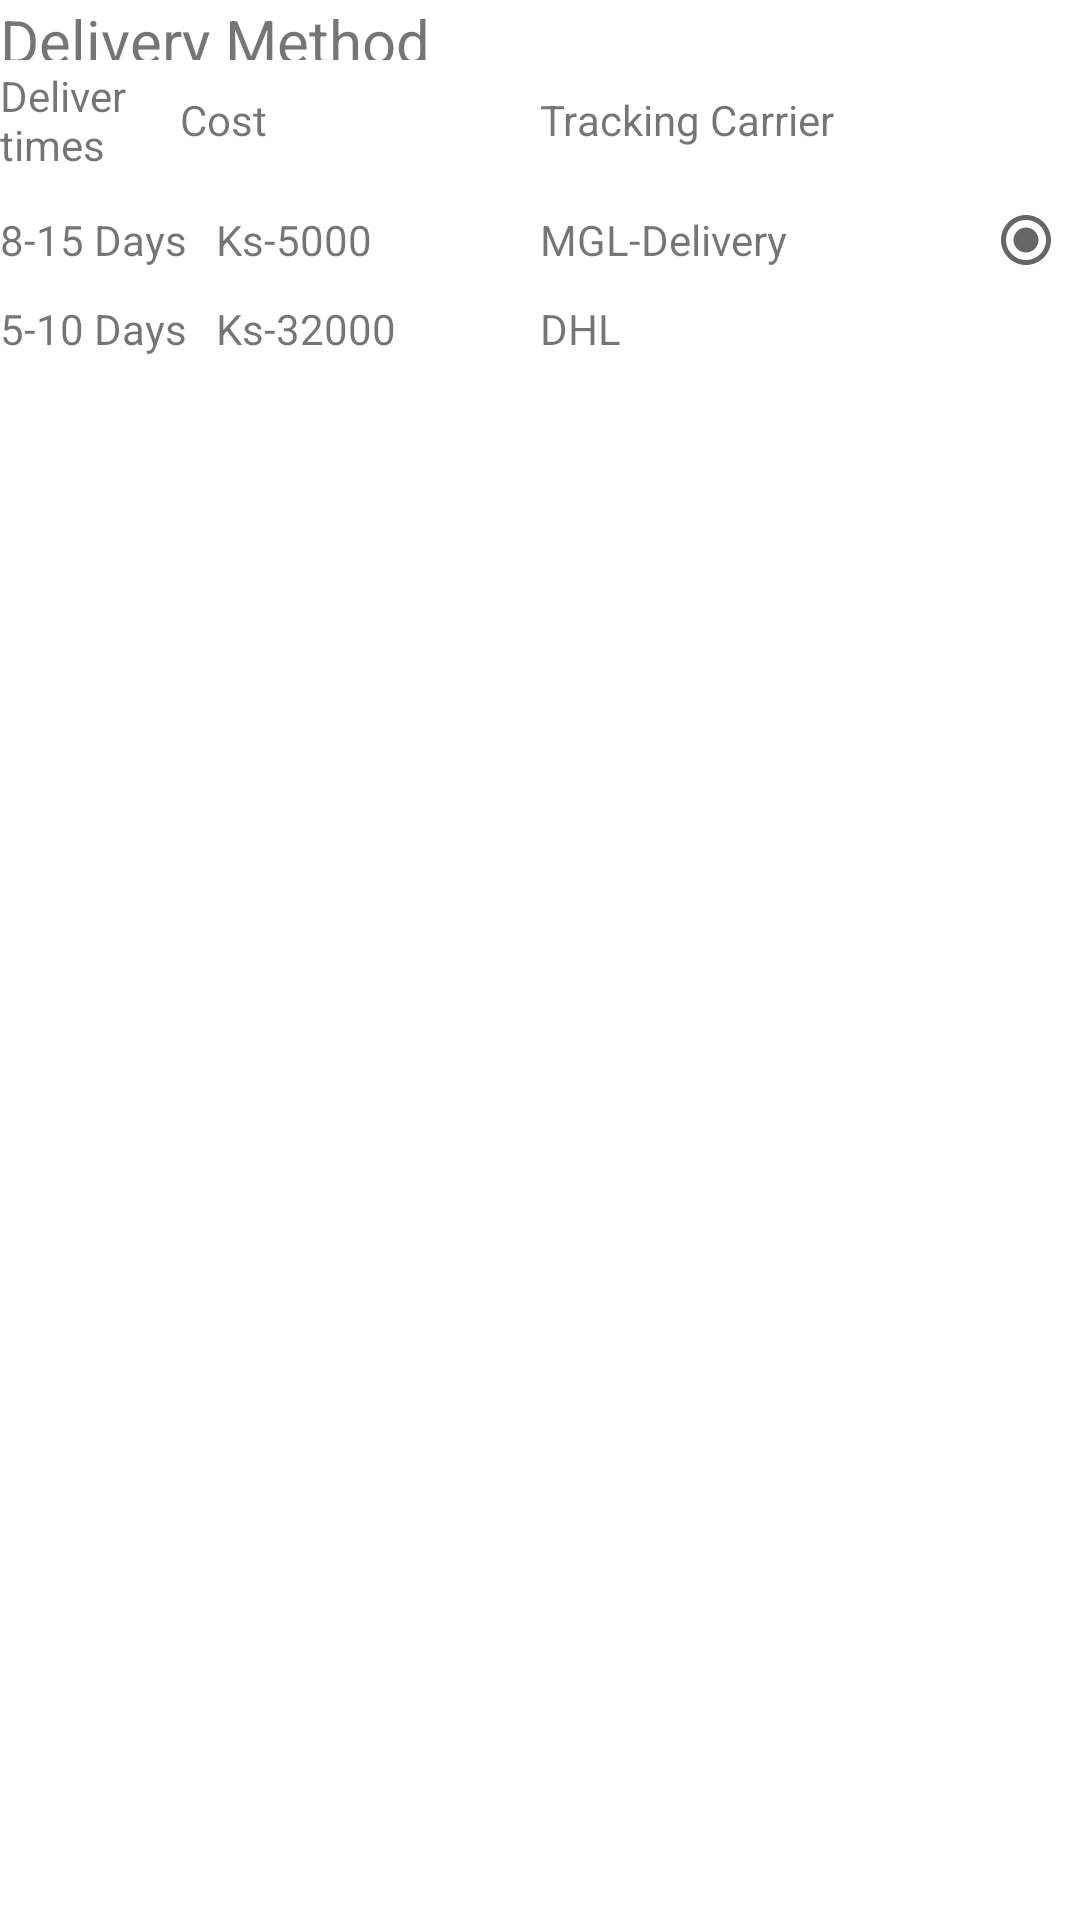

Where icons sit on this 1080px×1920px app screen, as (left=x1, top=y1, right=x2, bottom=y2):
radio checked: (left=1001, top=215, right=1051, bottom=265)
